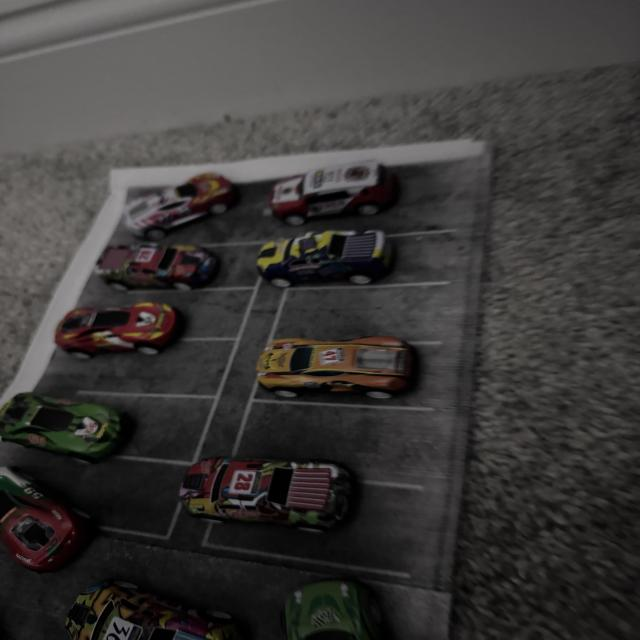Car: (236, 328, 465, 440), (170, 432, 358, 544), (248, 170, 478, 254), (244, 561, 428, 640), (19, 578, 237, 640), (0, 376, 133, 471), (0, 484, 118, 588), (246, 230, 405, 304), (80, 235, 250, 302), (0, 311, 182, 369), (94, 179, 252, 230)
